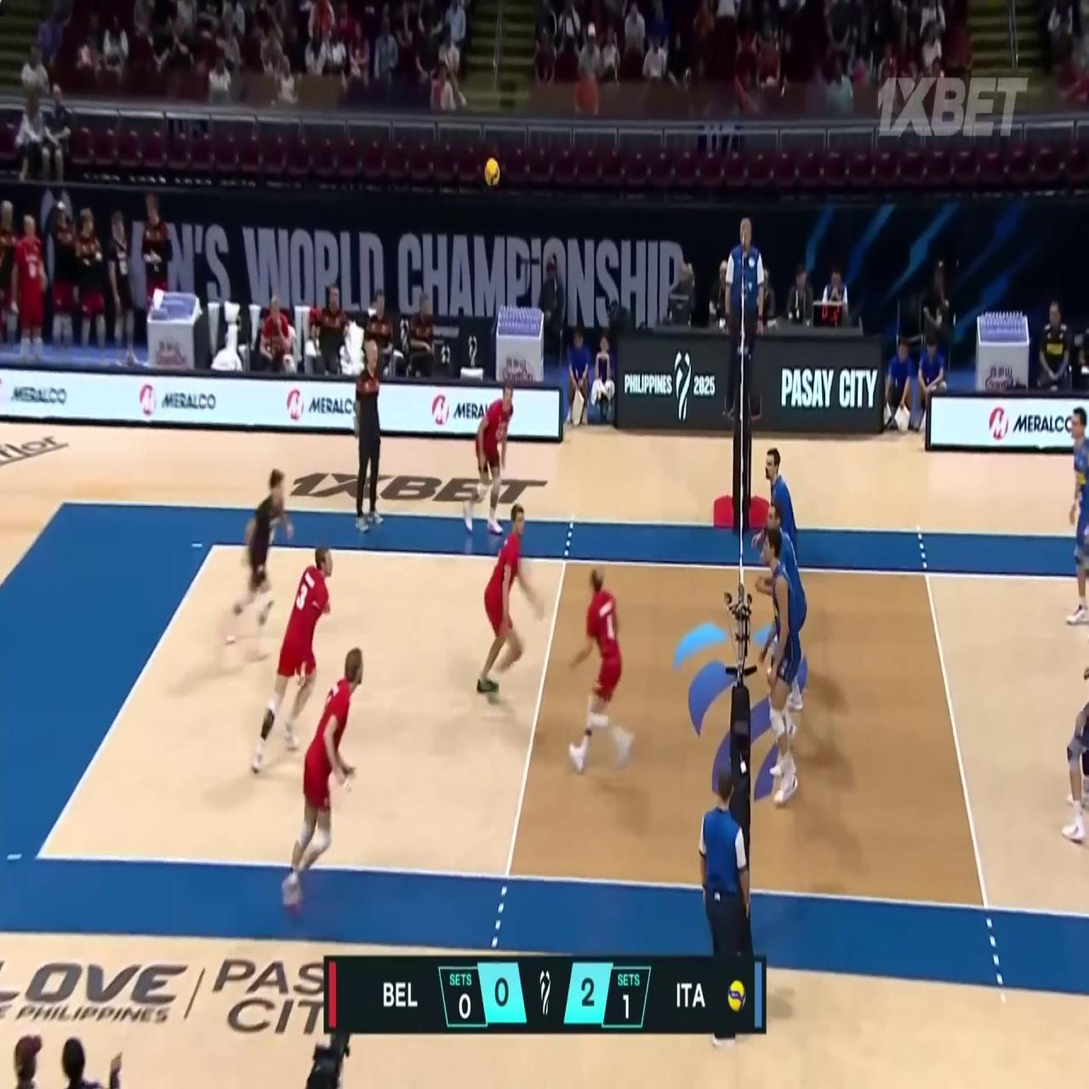ball: (485, 157, 501, 187)
